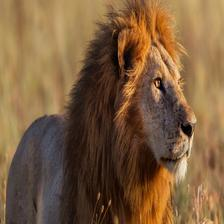Lion: (10, 7, 206, 224)
